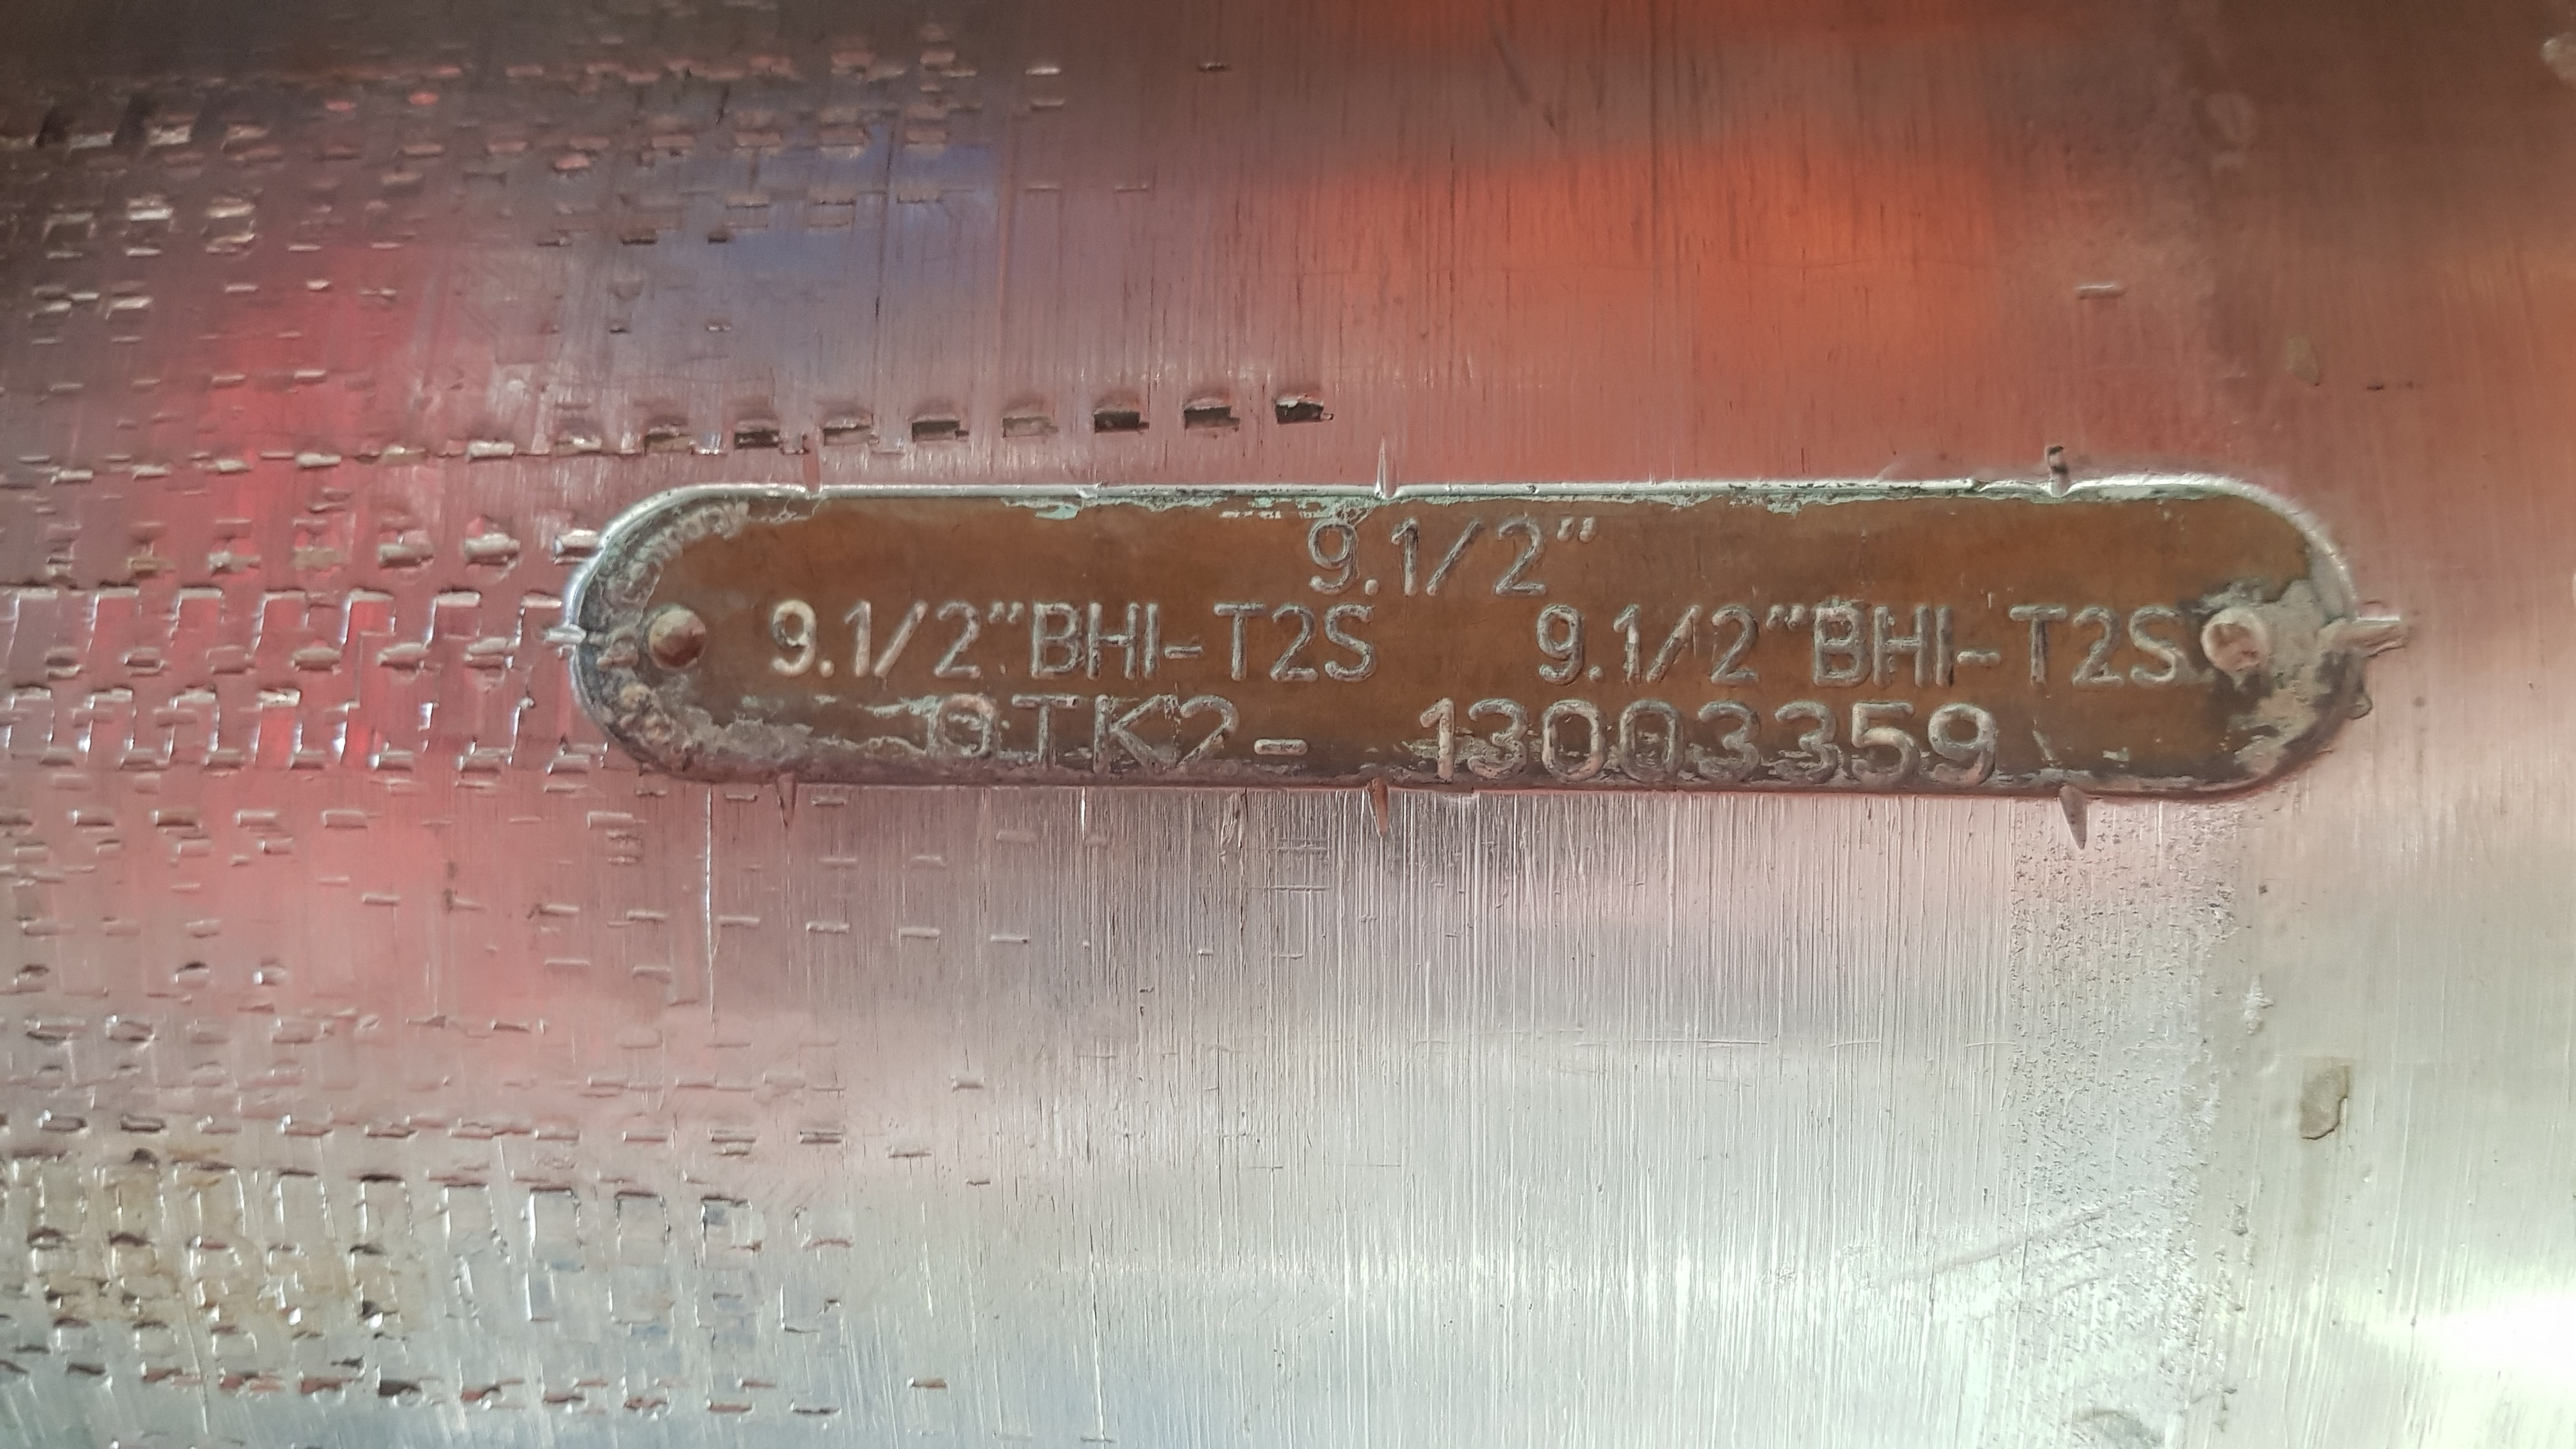character: (1612, 694, 1691, 787), (1769, 697, 1845, 793), (1534, 692, 1610, 786), (1847, 699, 1921, 793), (1925, 702, 2003, 789), (1088, 692, 1166, 775), (1695, 701, 1764, 793), (925, 690, 1003, 771), (2003, 603, 2072, 692), (1465, 697, 1532, 787), (1010, 688, 1081, 773), (1180, 694, 1249, 780), (1207, 591, 1267, 688), (1649, 602, 1713, 692), (1810, 596, 1870, 692), (2123, 607, 2187, 695), (1868, 603, 1930, 692), (2074, 600, 2128, 699), (931, 596, 987, 690), (1322, 598, 1378, 692), (1300, 517, 1364, 600), (1424, 517, 1484, 603), (1079, 596, 1139, 683), (1488, 513, 1548, 598), (874, 596, 931, 685), (1410, 695, 1465, 786), (1030, 596, 1083, 686), (1709, 600, 1760, 692), (763, 596, 821, 676), (1536, 602, 1587, 690), (1270, 605, 1320, 692), (839, 596, 879, 681), (1387, 520, 1428, 603), (1610, 600, 1647, 690), (1932, 607, 1957, 695), (1249, 734, 1318, 764), (1141, 596, 1162, 688), (1953, 646, 2006, 679), (1159, 639, 1207, 665)
